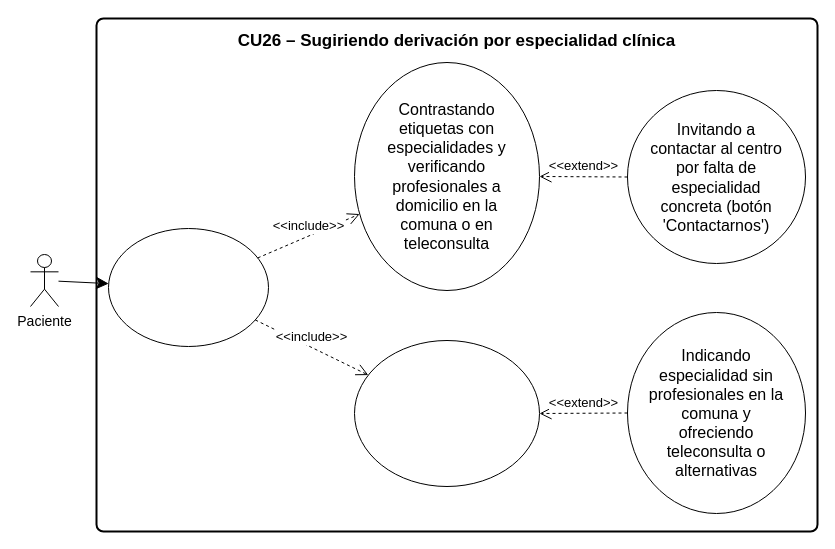
The diagram is 835 pixels wide and 549 high, and some of its shapes have lost their labels. Each missing label, with the centre of its shape:
Sugiriendo derivación por especialidad clínica: the point at 188,287
Visualizando especialidad sugerida, explicación y botón 'Buscar hora ahora': the point at 447,413
